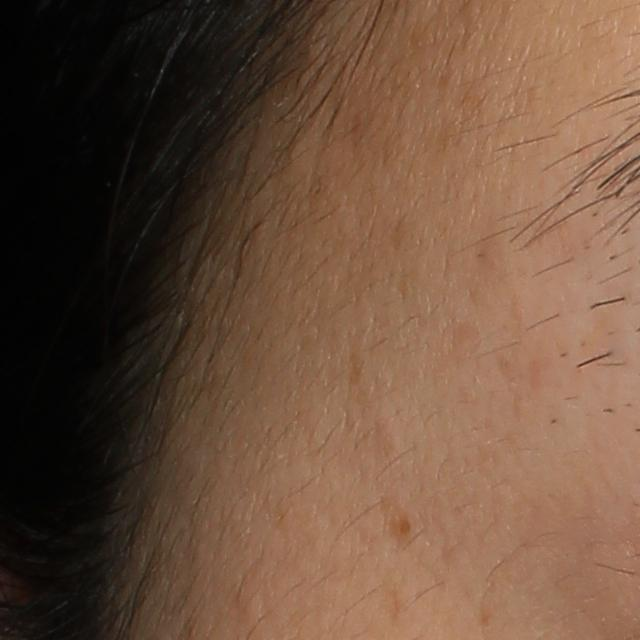melasma: (380, 495, 414, 543)
